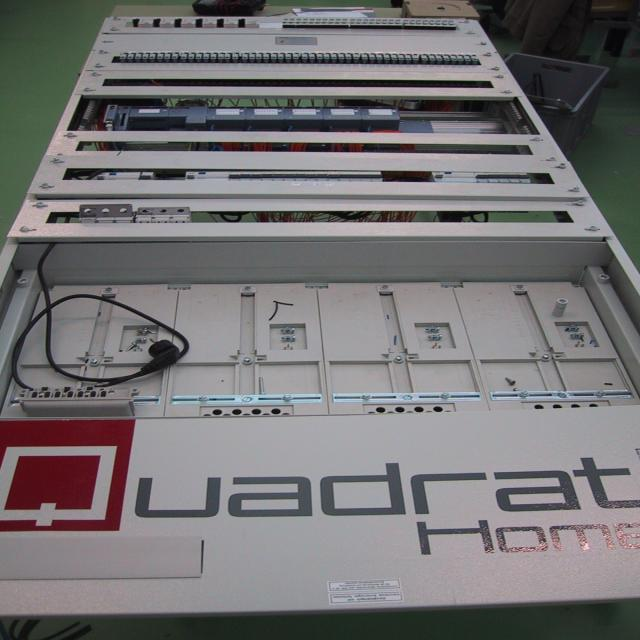FI: (431, 171, 475, 183), (185, 170, 229, 181), (94, 170, 140, 180)
Leitungsschutzschalter: (371, 171, 384, 183), (475, 172, 487, 184), (240, 170, 251, 182), (284, 170, 295, 182), (252, 170, 262, 183), (307, 170, 317, 183), (140, 170, 153, 180), (295, 171, 306, 182), (328, 171, 339, 182), (339, 171, 350, 182), (520, 173, 531, 184), (263, 170, 273, 182), (273, 170, 283, 182), (499, 172, 509, 184), (317, 171, 328, 181), (350, 171, 360, 182), (361, 171, 371, 182), (487, 173, 498, 183), (510, 173, 520, 184), (230, 171, 240, 181)
Relais: (360, 53, 369, 63), (316, 52, 324, 63), (338, 52, 345, 64), (353, 52, 360, 64), (231, 52, 240, 61), (171, 51, 179, 61), (292, 52, 300, 62), (390, 54, 398, 64), (420, 54, 428, 64), (428, 54, 436, 64), (471, 55, 479, 65), (309, 52, 316, 63), (324, 52, 331, 63), (331, 52, 338, 63), (384, 53, 391, 64), (457, 54, 464, 65), (156, 51, 164, 60), (284, 53, 292, 62), (188, 52, 195, 62), (217, 52, 224, 62), (241, 52, 248, 62), (263, 52, 270, 62), (270, 52, 277, 62), (301, 52, 308, 62), (345, 52, 352, 62), (369, 53, 376, 63), (412, 54, 419, 64), (436, 54, 443, 64), (443, 54, 450, 64), (450, 54, 457, 64), (405, 53, 411, 64), (127, 51, 134, 60), (135, 51, 142, 60), (142, 51, 149, 60), (164, 51, 171, 60), (203, 52, 210, 61), (210, 52, 217, 61), (224, 52, 231, 61), (181, 51, 187, 61), (196, 51, 202, 61), (249, 52, 255, 62), (256, 52, 262, 62), (278, 52, 284, 62), (377, 54, 383, 64), (398, 53, 404, 63), (465, 54, 470, 65), (150, 51, 156, 60), (121, 51, 126, 60)
SPS-System -Steuerungskomponente-: (132, 105, 208, 118), (324, 105, 361, 124), (362, 105, 400, 123), (285, 106, 323, 122), (245, 106, 285, 121), (209, 107, 244, 120)
Schaltkasten: (0, 15, 639, 614)
